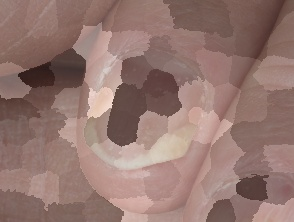Nail_psoriasis: (50, 18, 239, 207)
